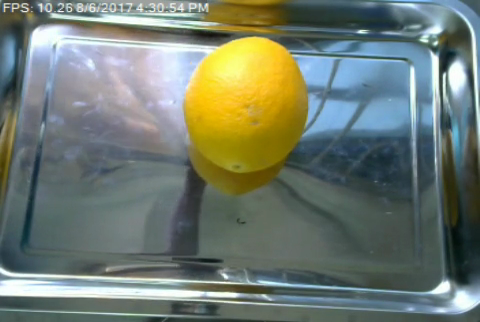Orange: (184, 35, 308, 172)
